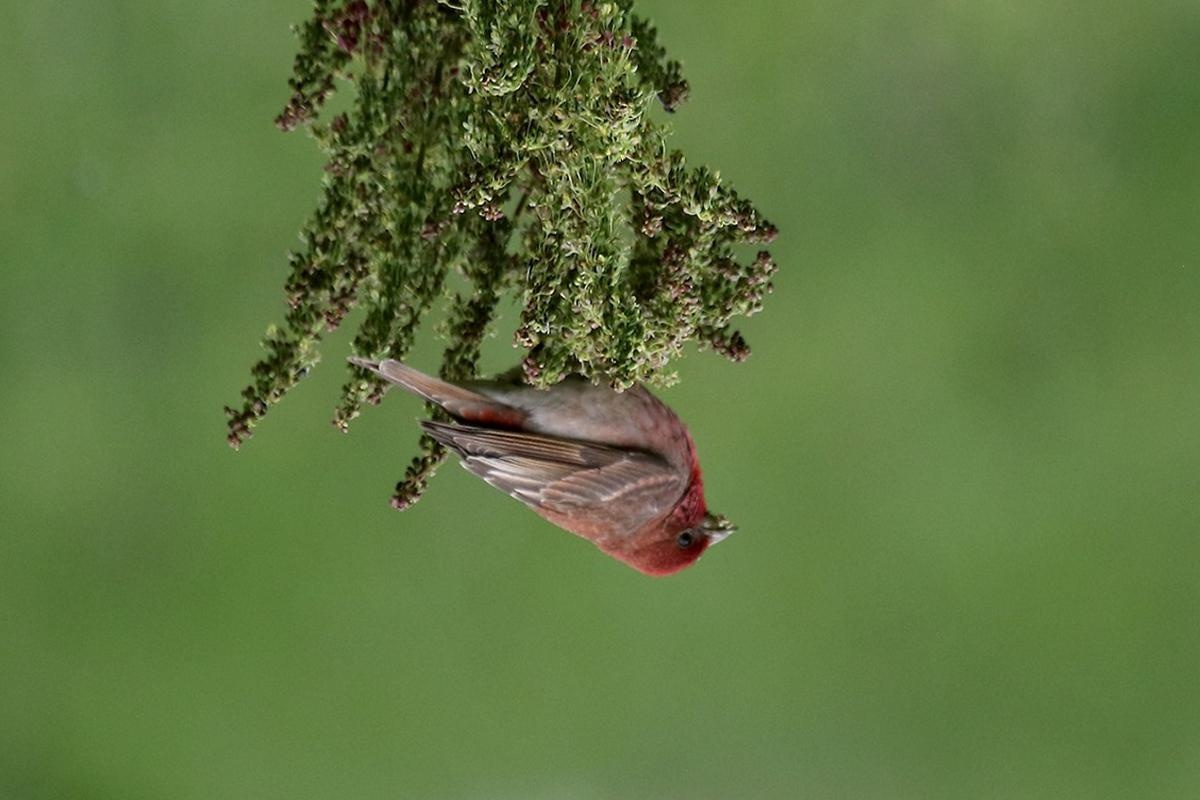rosefinch: (370, 318, 758, 581)
